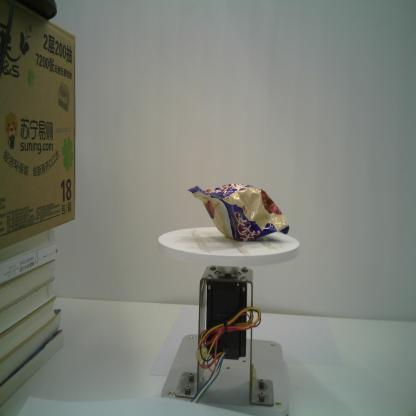Dessert: (187, 183, 290, 242)
